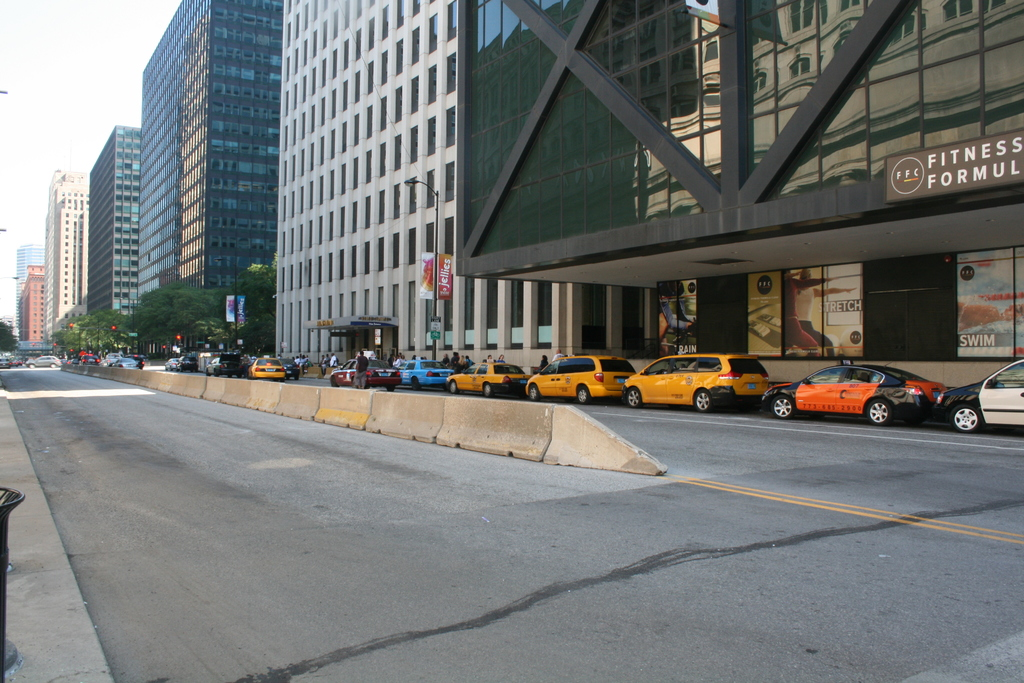Car: (320, 347, 778, 417), (768, 359, 976, 427), (242, 354, 288, 382)
